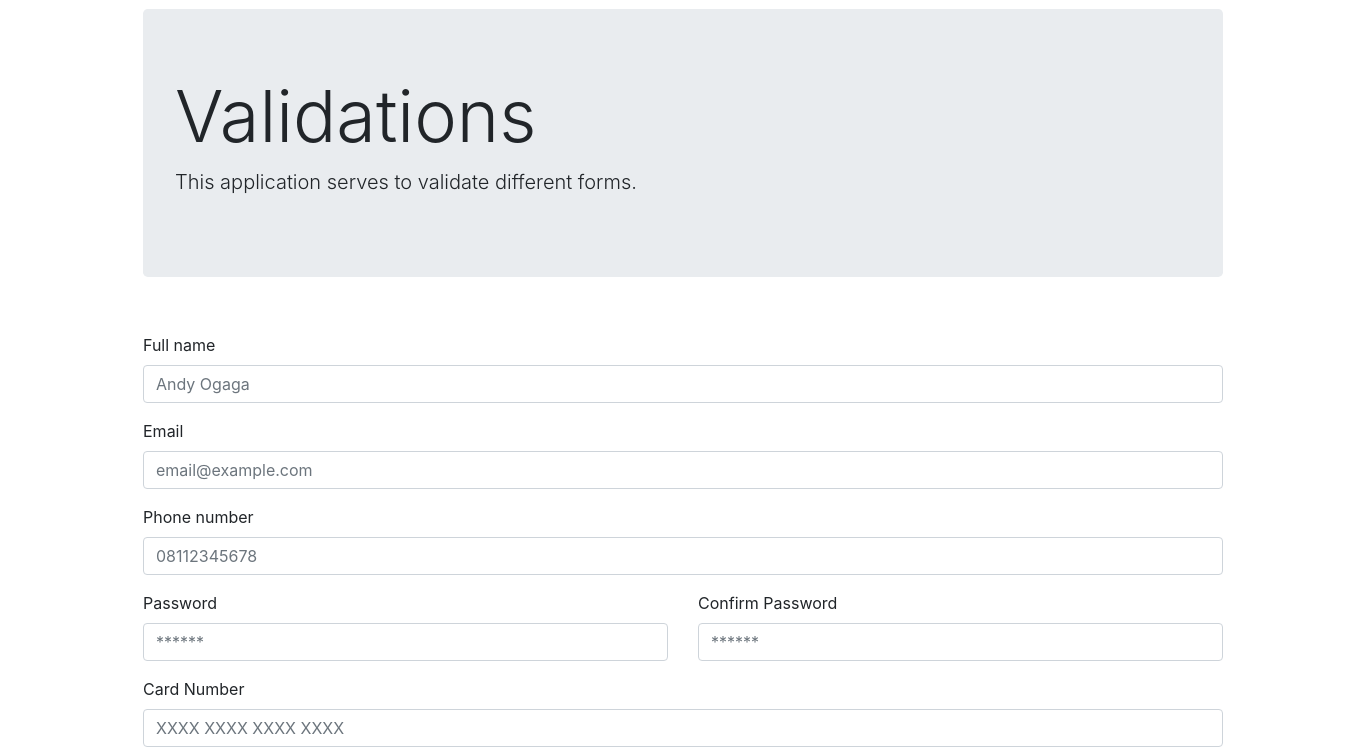
Test case: Home Tests › should not accept unequal confirm password
In the password field labelled "Password": (406, 642) left=143, top=623, right=668, bottom=661, type "Pass123*"
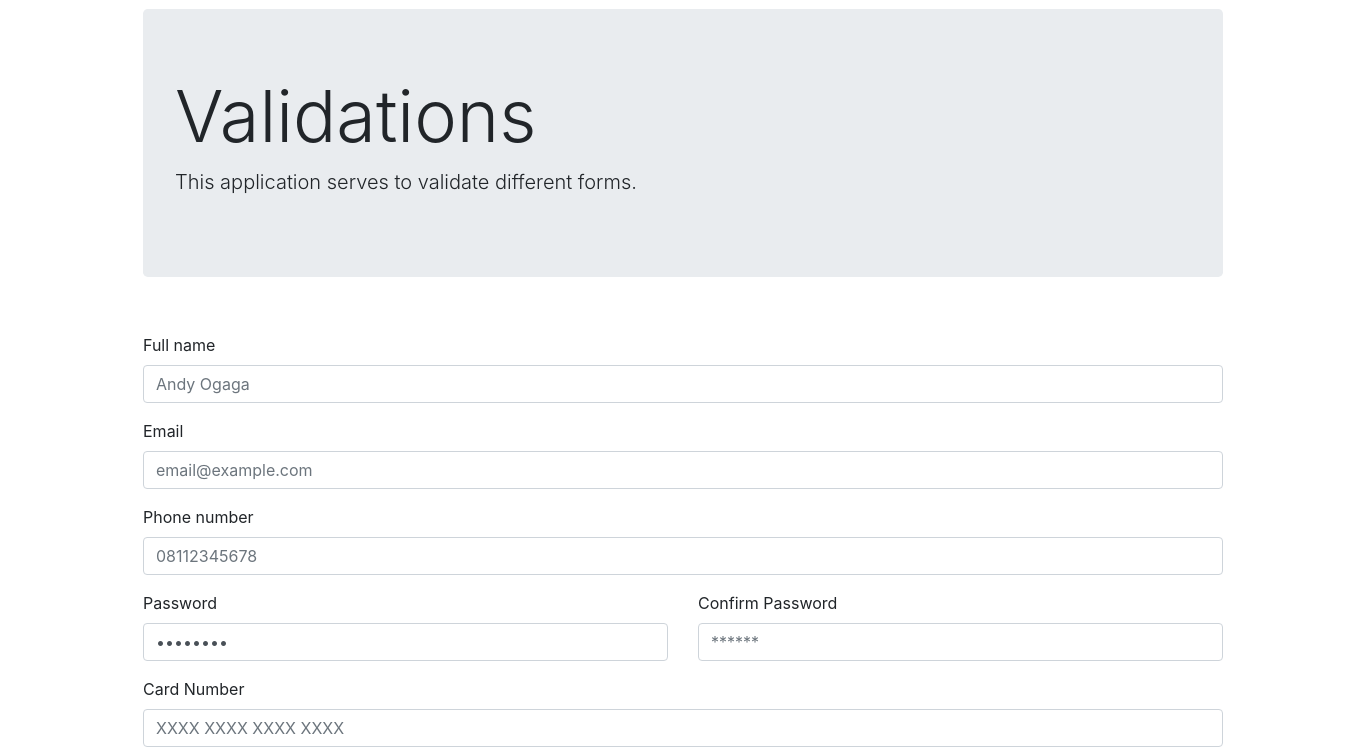
In the password field labelled "Confirm Password": (960, 642) left=698, top=623, right=1223, bottom=661, type "Pass1234"
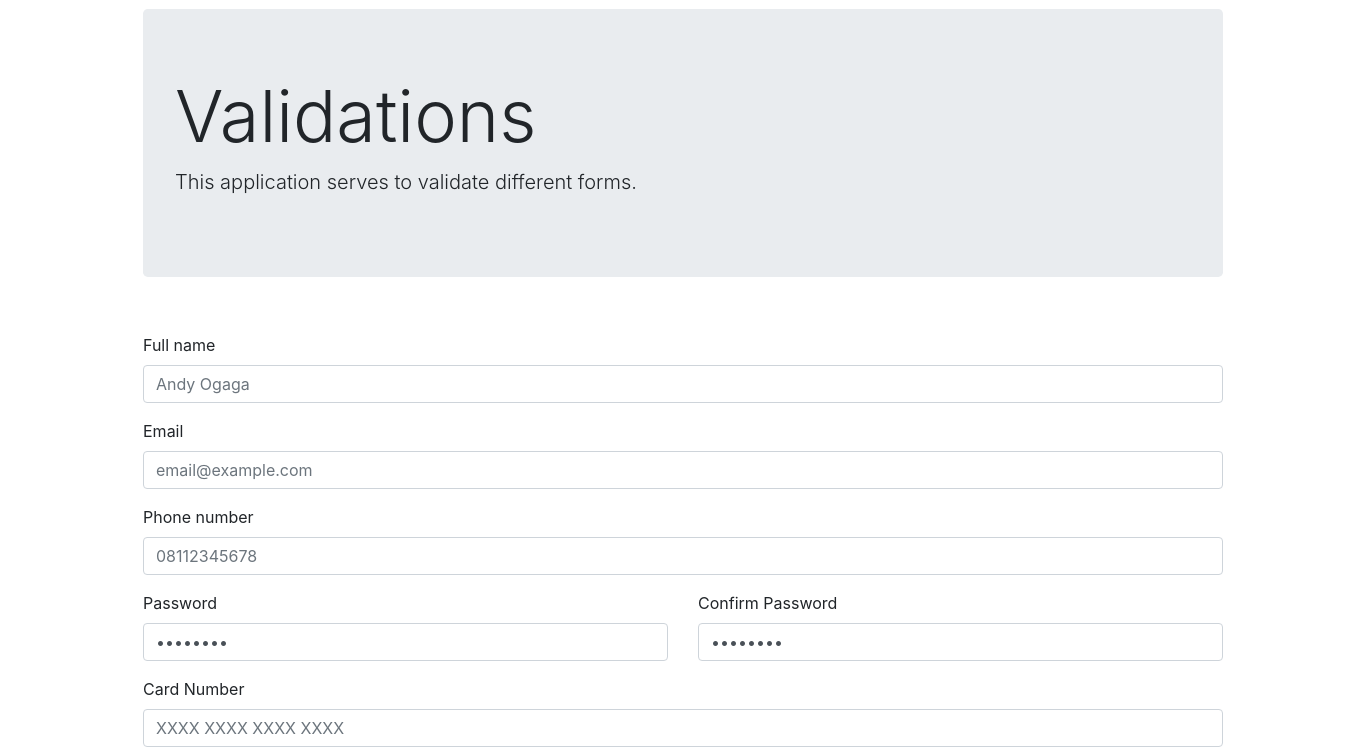
Leave the password field labelled "Confirm Password", box left=698, top=623, right=1223, bottom=661
(page scrolled)
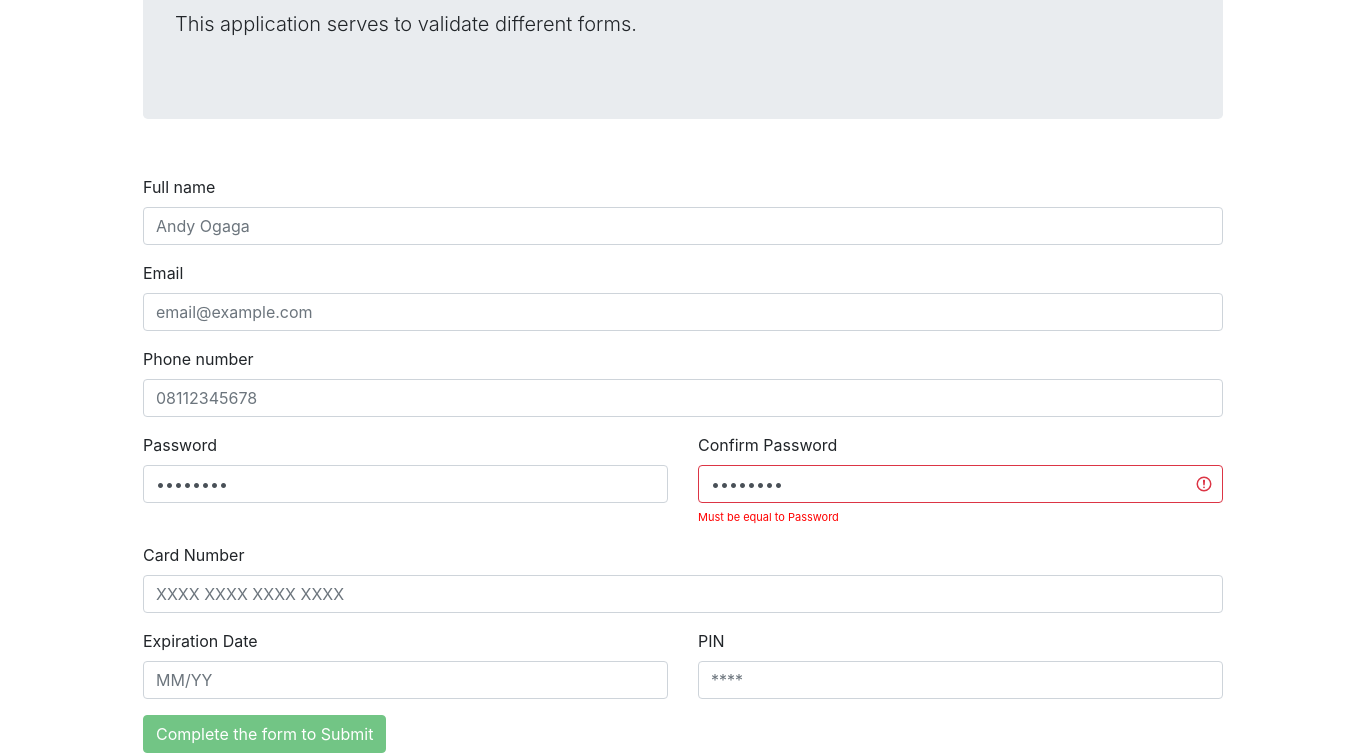
Expected: the button "Complete the form to Submit" is shown, left=143, top=715, right=386, bottom=752
Now the text with test id "confirmPassword-error" reads "Must be equal to Password", box left=698, top=510, right=839, bottom=524
